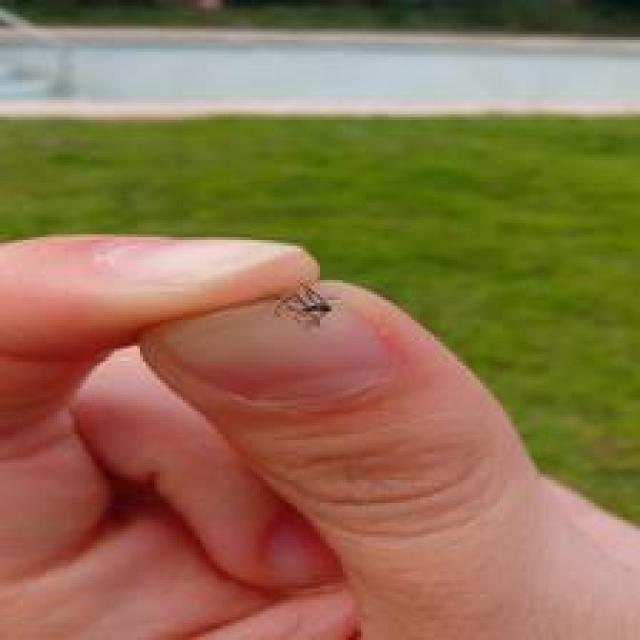Aedes albopictus: (273, 283, 333, 328)
